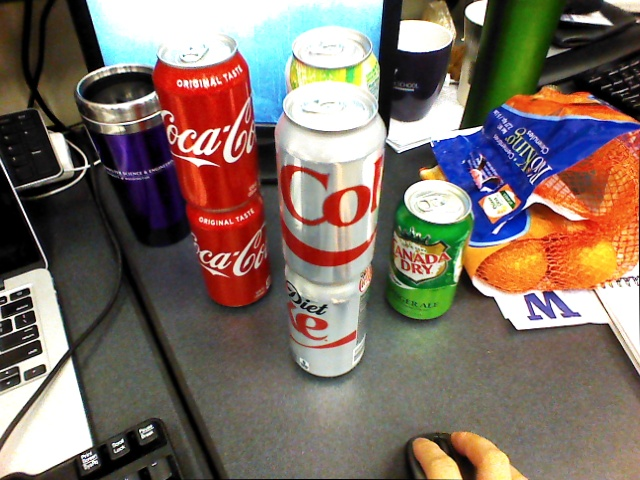can_coke: (155, 33, 260, 204), (186, 203, 273, 306)
can_diet_coke: (275, 87, 382, 279), (285, 272, 372, 378)
can_ginger_ale: (386, 182, 473, 321)
